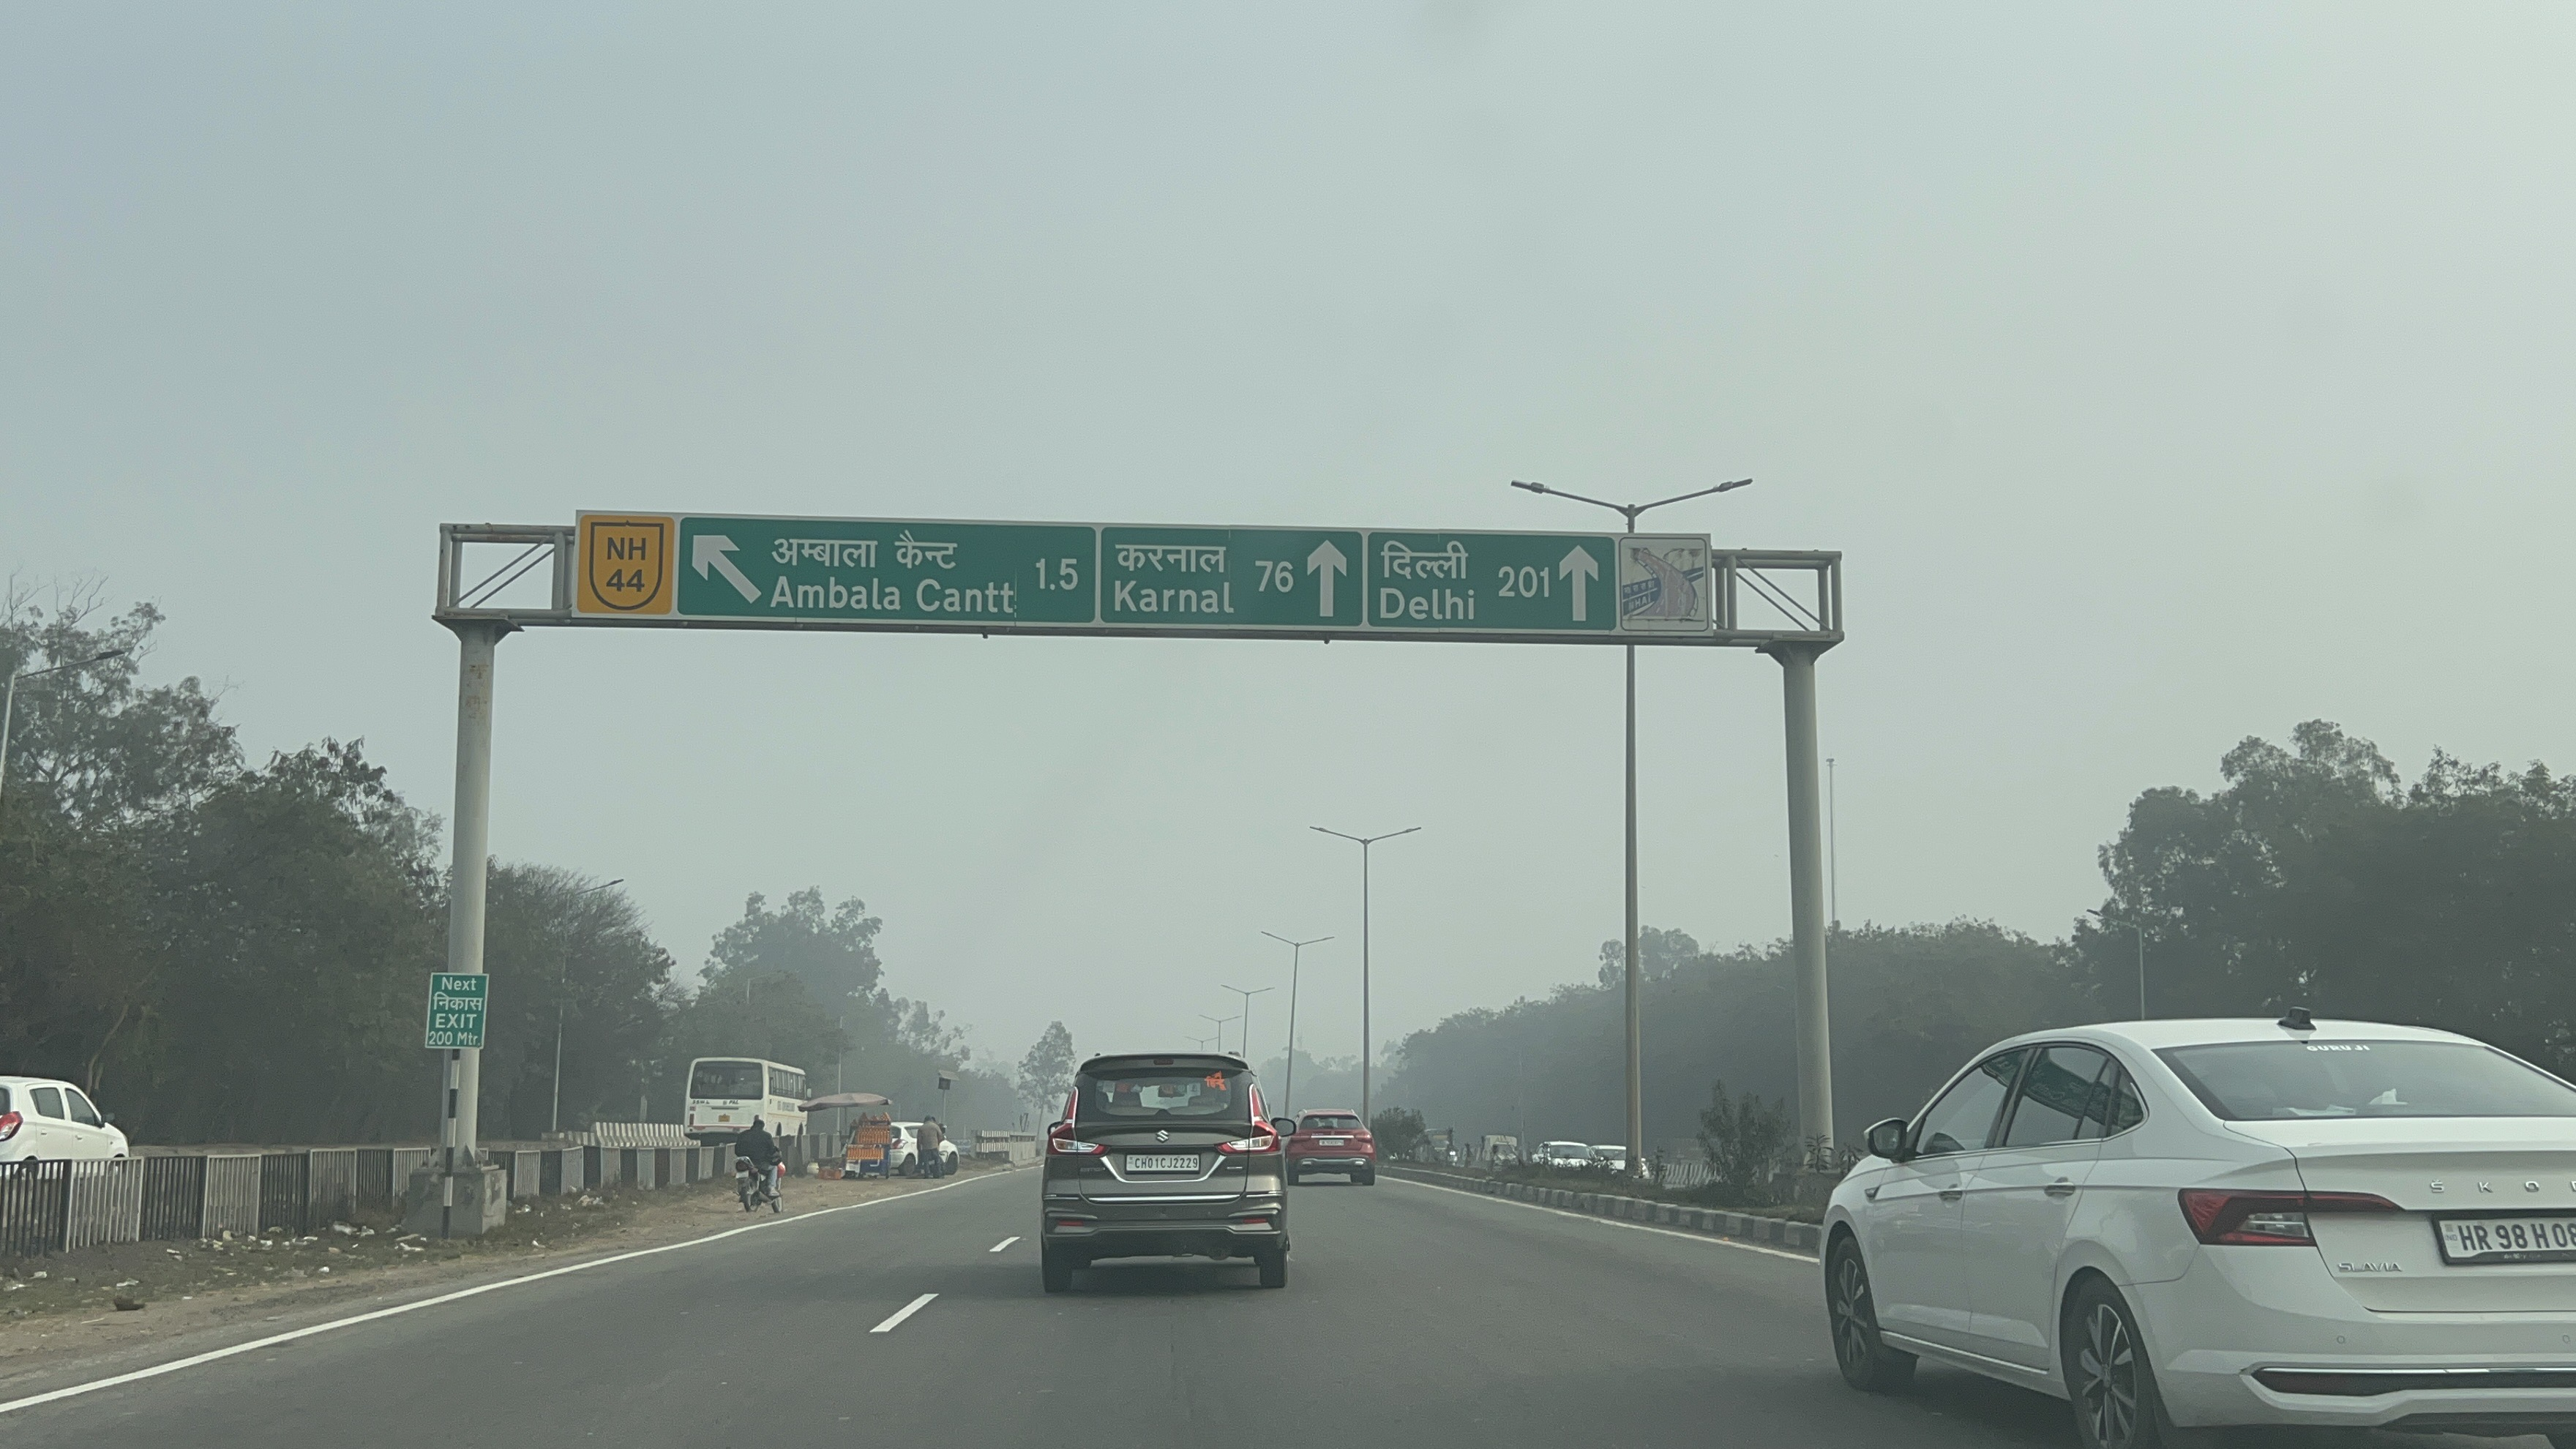General: (571, 502, 681, 625)
Informatory: (678, 511, 1622, 646), (414, 961, 495, 1056)
